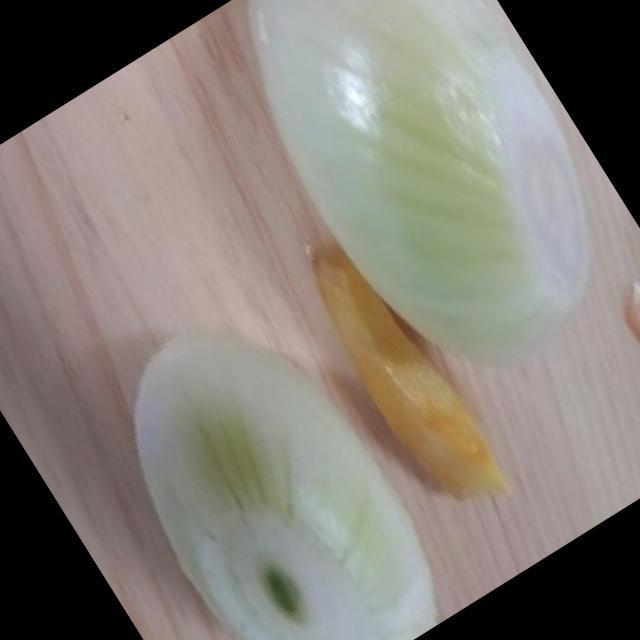Onion: (240, 0, 601, 345), (136, 336, 440, 640)
